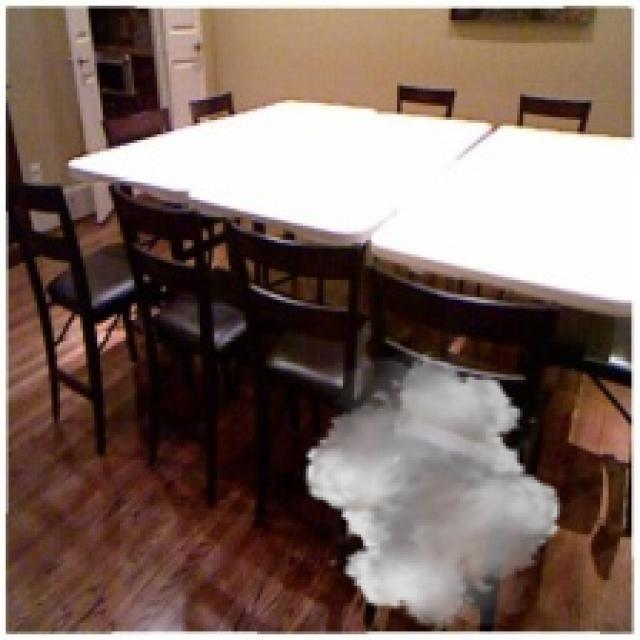smoke: (294, 352, 572, 632)
